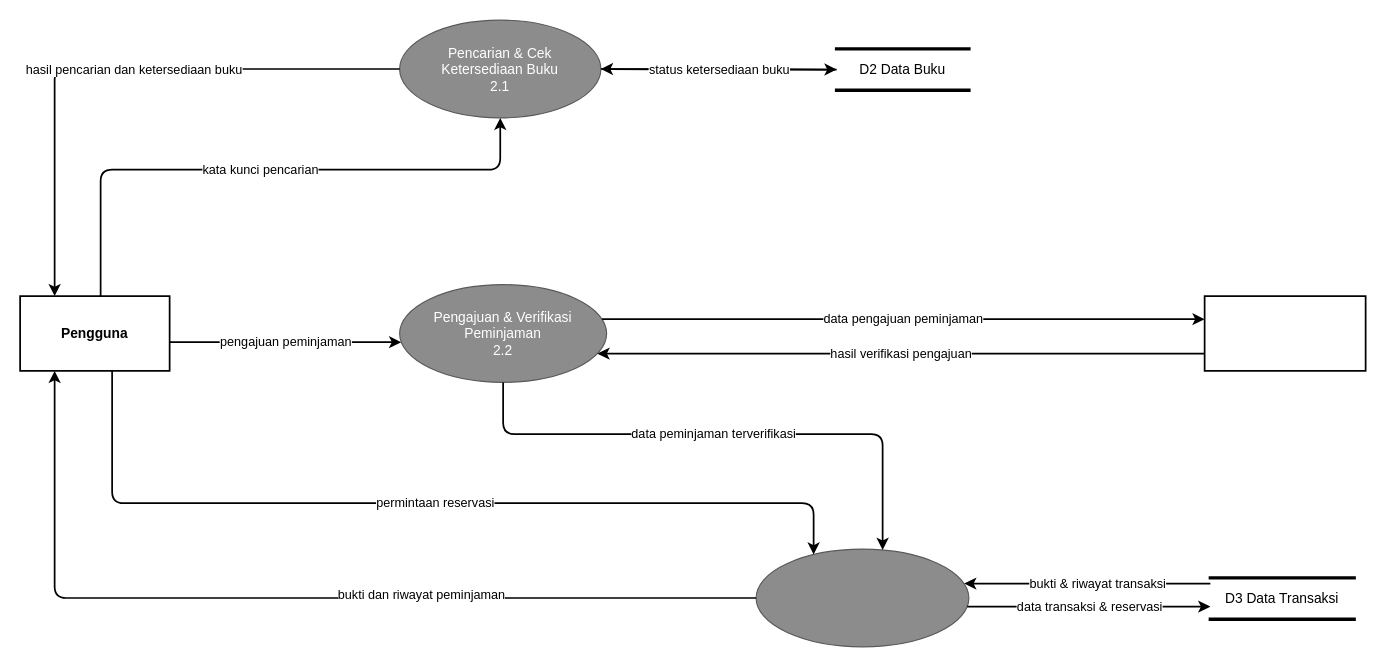
Image size: 1387x667. Some labels were removed from this diagram. Here are the shapes that lost their labels. From the top down, the centre of each, then its label:
point (1284, 333): Petugas Perpustakaan
point (862, 597): Pencatatan Transaksi antiran 2.3
